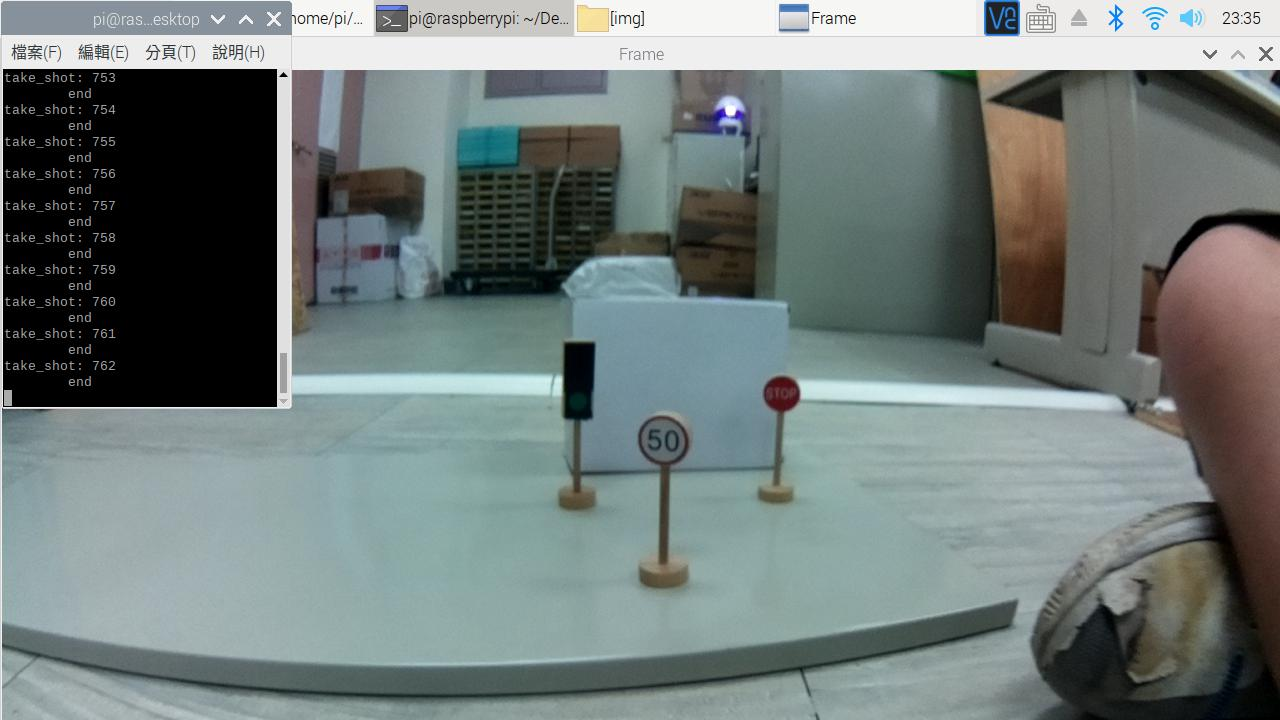Green: (552, 329, 607, 440)
Speed50: (633, 417, 705, 473)
Stop: (751, 370, 811, 421)
